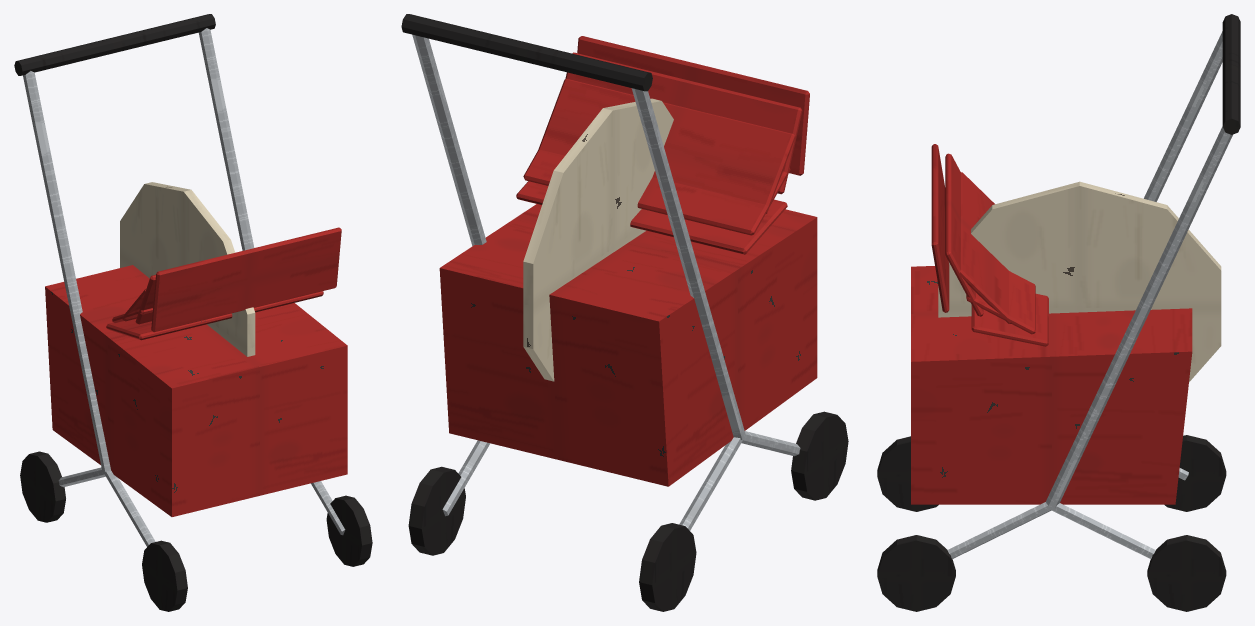
The model's file is stroller.glb.
3 views of the same model, side by side, from view 1: azimuth 30°, elevation 25°; view 2: azimuth 150°, elevation 25°; view 3: azimuth 270°, elevation 25° (orthographic). The views are drawn at different scales.
Parts seen in each view (by area): view 1: p; view 2: p; view 3: p.
Boxes of the visible parts, x1,y1,x2,y2 form: p: (14,14,372,611); p: (401,14,848,611); p: (877,14,1240,611).
Bounding box in the file's own units: 0.444 × 0.966 × 0.646.
4 materials, 4 textured.
